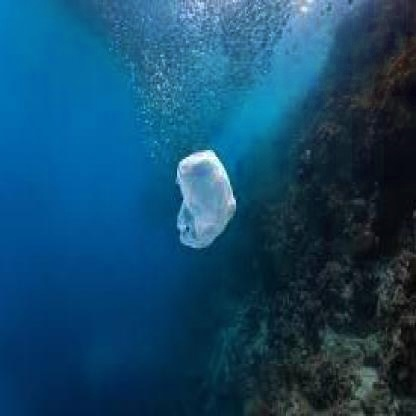pbag: (172, 148, 236, 250)
